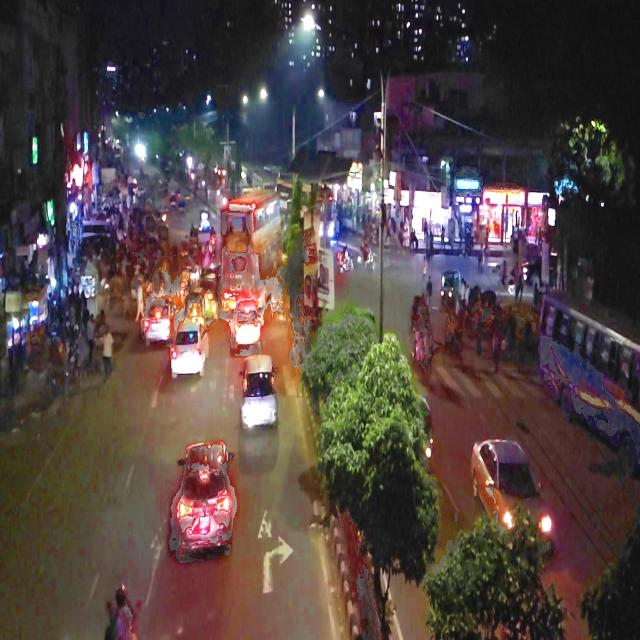maroon: (175, 442, 233, 556)
silver: (472, 440, 552, 557)
white: (242, 352, 278, 433), (169, 320, 210, 376), (232, 298, 260, 350)
